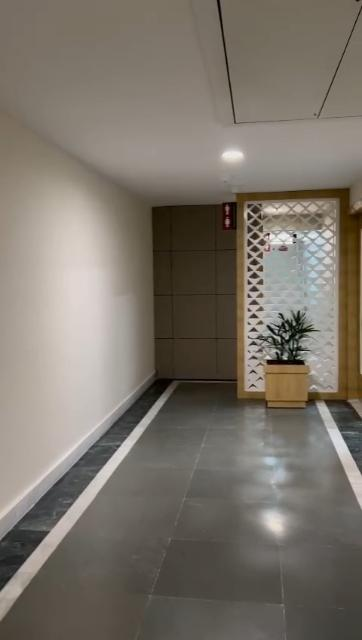floor: (0, 381, 362, 638)
object: (256, 313, 318, 422)
wall: (0, 98, 153, 520)
